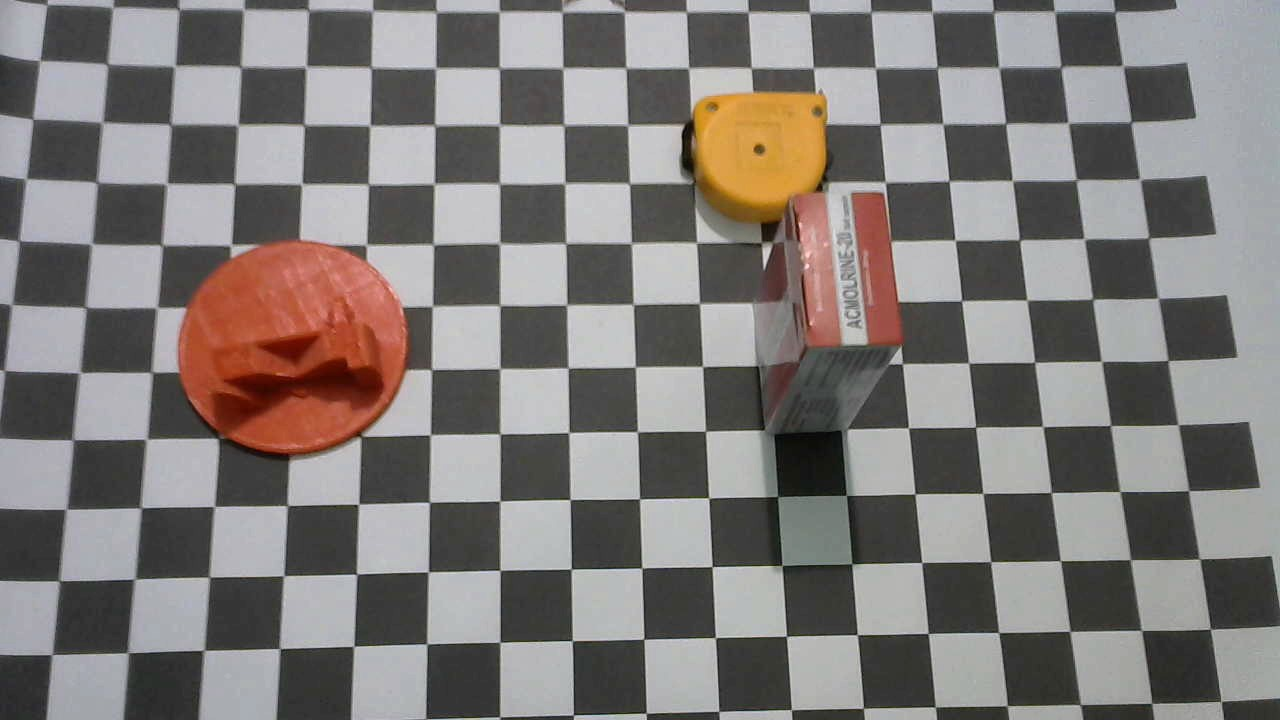blue: (688, 90, 830, 224)
green: (178, 238, 412, 459)
red: (754, 191, 902, 435)
